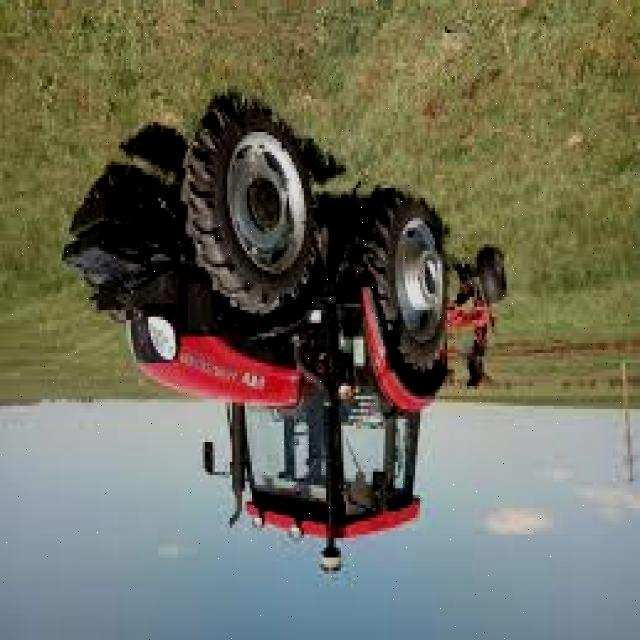Tratores - v5 YOLO V8L 2024-11-13: (90, 97, 450, 541)
